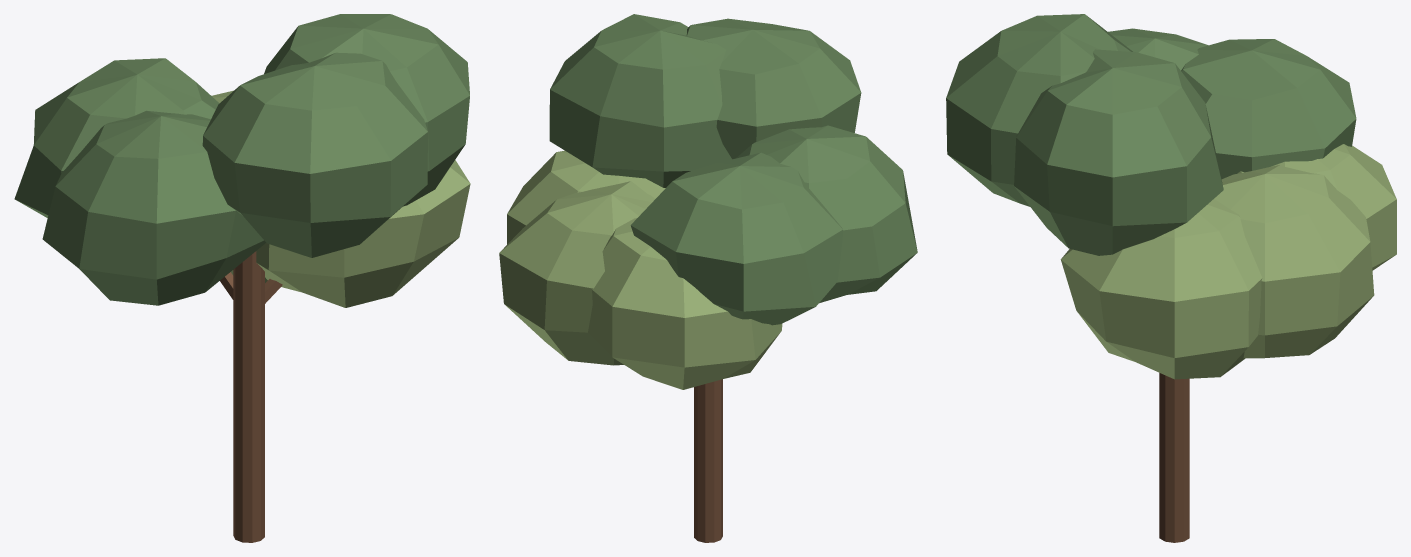
File: SM_StreetTree.glb
The picture shows the model from 3 angles, left to right: view 1: azimuth 30°, elevation 25°; view 2: azimuth 150°, elevation 25°; view 3: azimuth 270°, elevation 25°; orthographic projection. The views are drawn at different scales.
Visible parts, largest first — view 1: SM_StreetTree; view 2: SM_StreetTree; view 3: SM_StreetTree.
Boxes of the visible parts, x1,y1,x2,y2 form: SM_StreetTree: (14, 14, 470, 542); SM_StreetTree: (499, 14, 917, 542); SM_StreetTree: (946, 14, 1396, 542).
Bounding box in the file's own units: 4.7 × 5.65 × 4.54.
